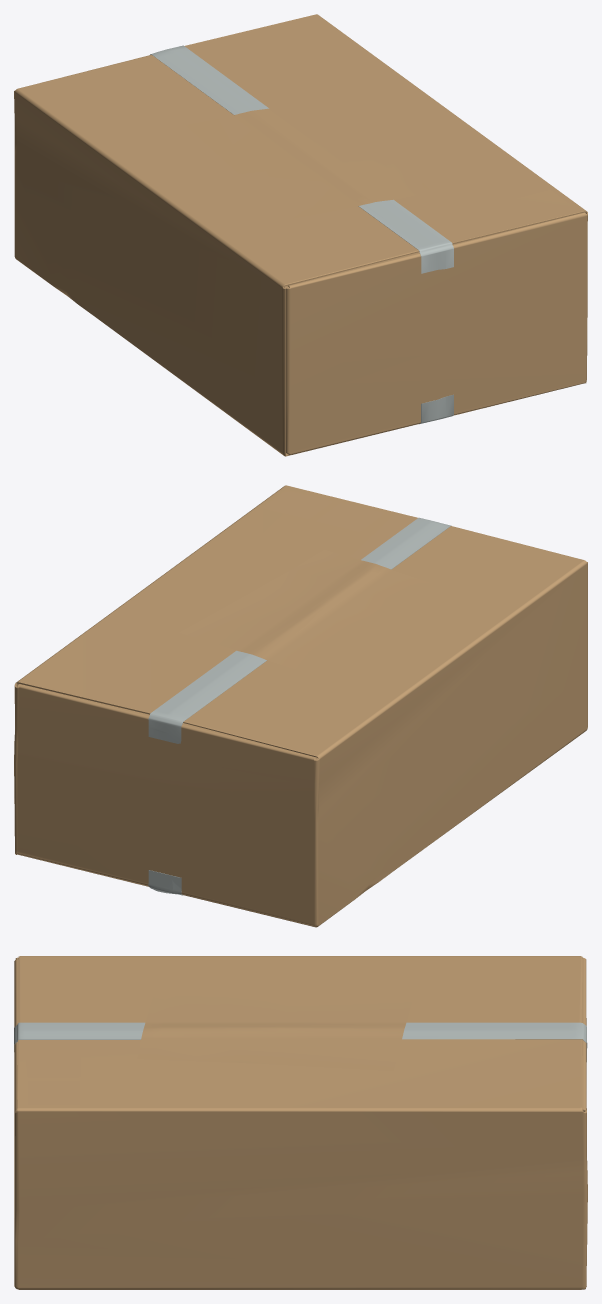
The model's file is box_printer_a10.glb.
3 views of the same model, one above another, from view 1: azimuth 30°, elevation 25°; view 2: azimuth 150°, elevation 25°; view 3: azimuth 270°, elevation 25° (orthographic). The views are drawn at different scales.
Size of the model in its own units: 0.2808 by 0.1569 by 0.4359.
